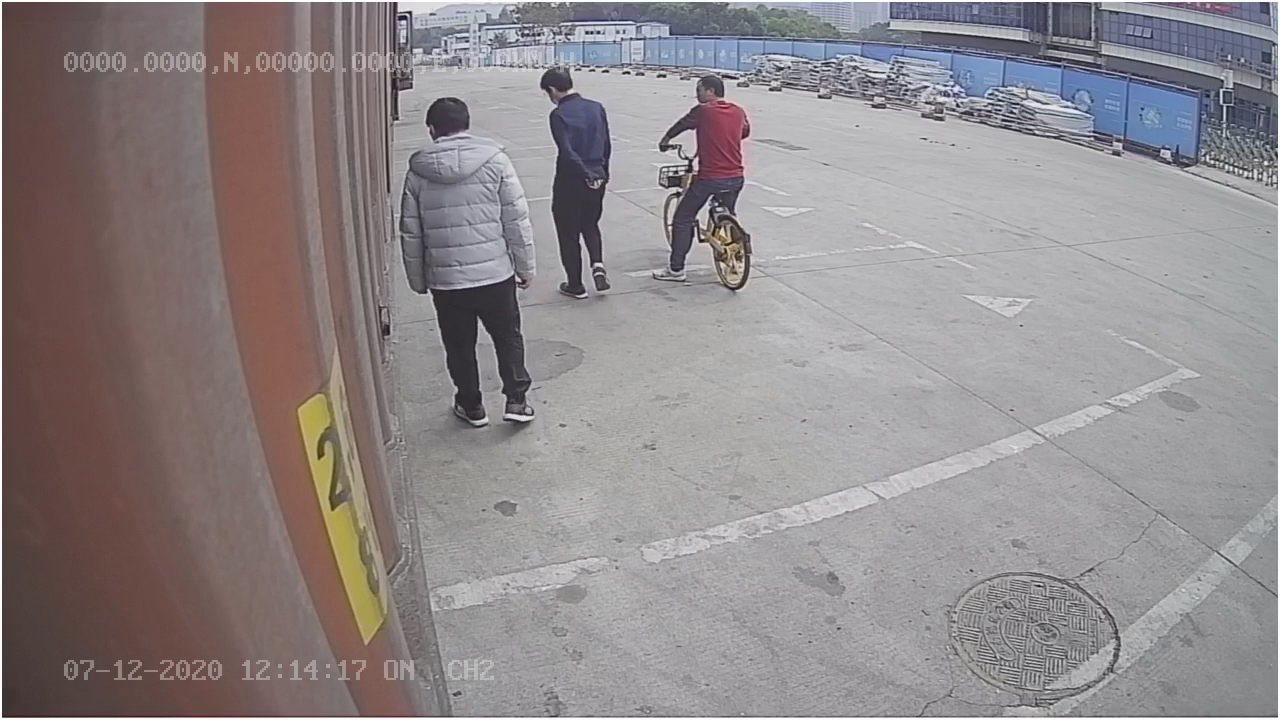person: (538, 60, 613, 301)
